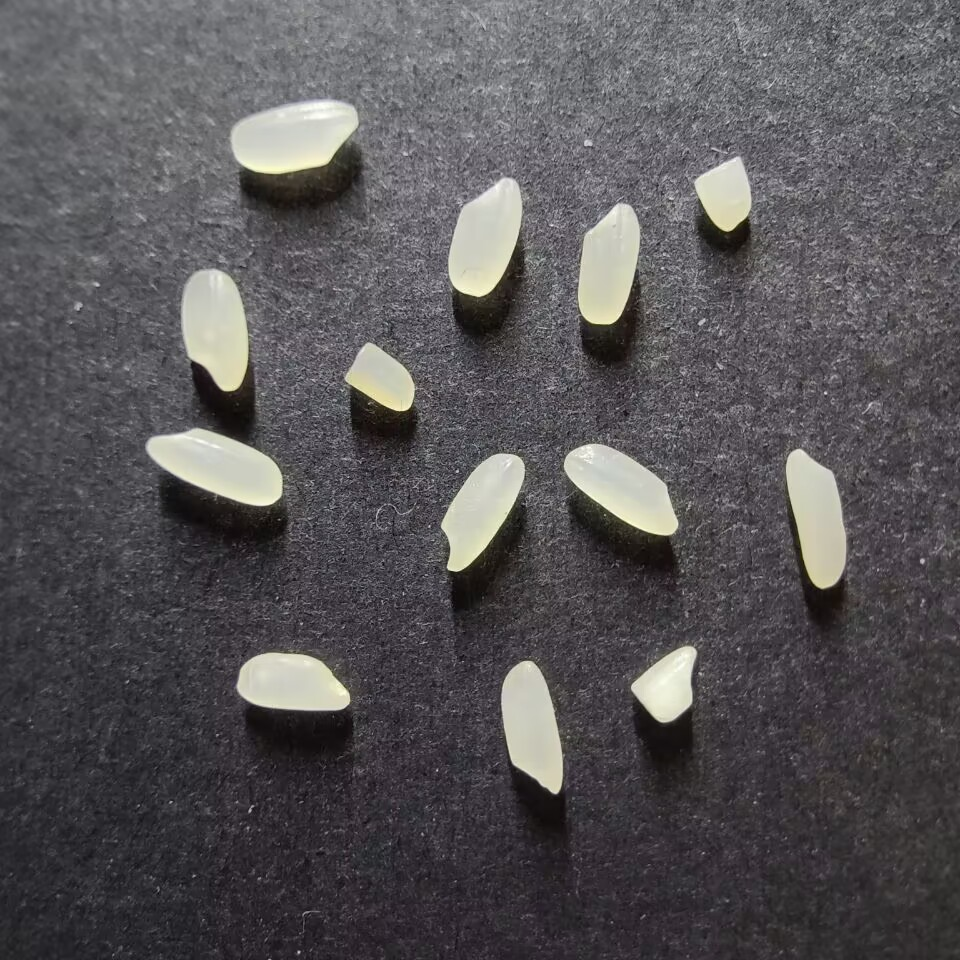broken: (629, 642, 697, 723), (343, 342, 415, 411), (693, 155, 752, 232)
rice: (145, 428, 282, 506), (562, 443, 678, 535), (439, 453, 525, 572), (230, 101, 359, 174), (447, 176, 521, 297), (784, 448, 847, 588), (499, 659, 564, 794), (180, 269, 248, 392), (576, 202, 640, 325), (235, 650, 350, 711)
